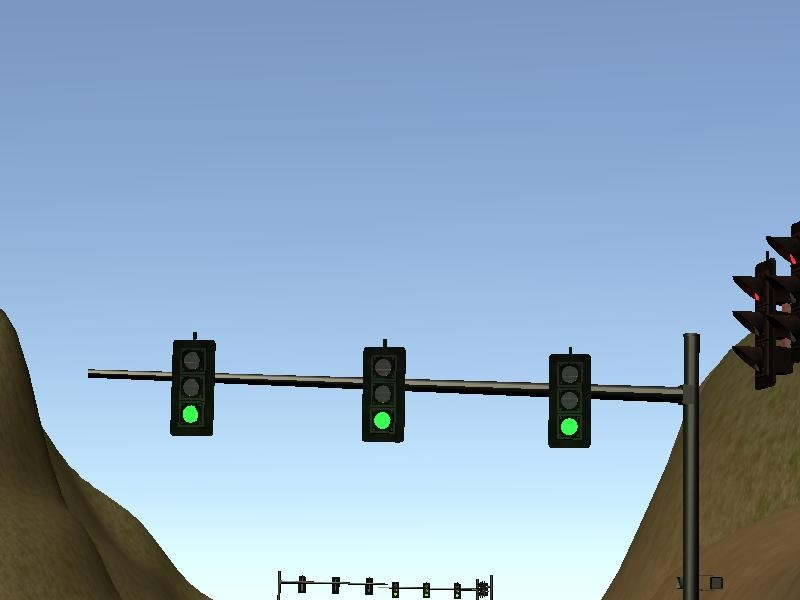Green: (547, 353, 590, 449), (362, 346, 405, 442), (172, 340, 215, 436)
